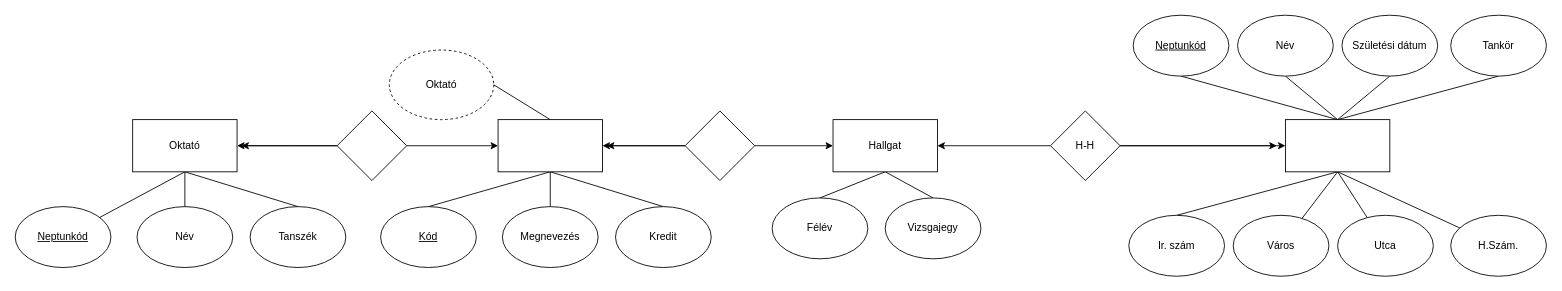
Some shapes in this 1562 by 291 pixel diagram are drawn without their labels. The centre of each missing label's shape, as x and y in pixels:
Hallgató: [1337,145]
T-H: [719,145]
T-O: [371,145]
Tárgy: [549,145]
